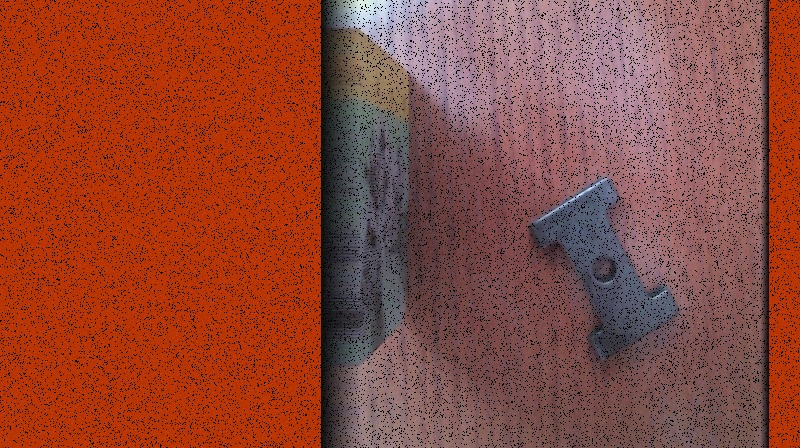O002: (525, 168, 683, 365)
